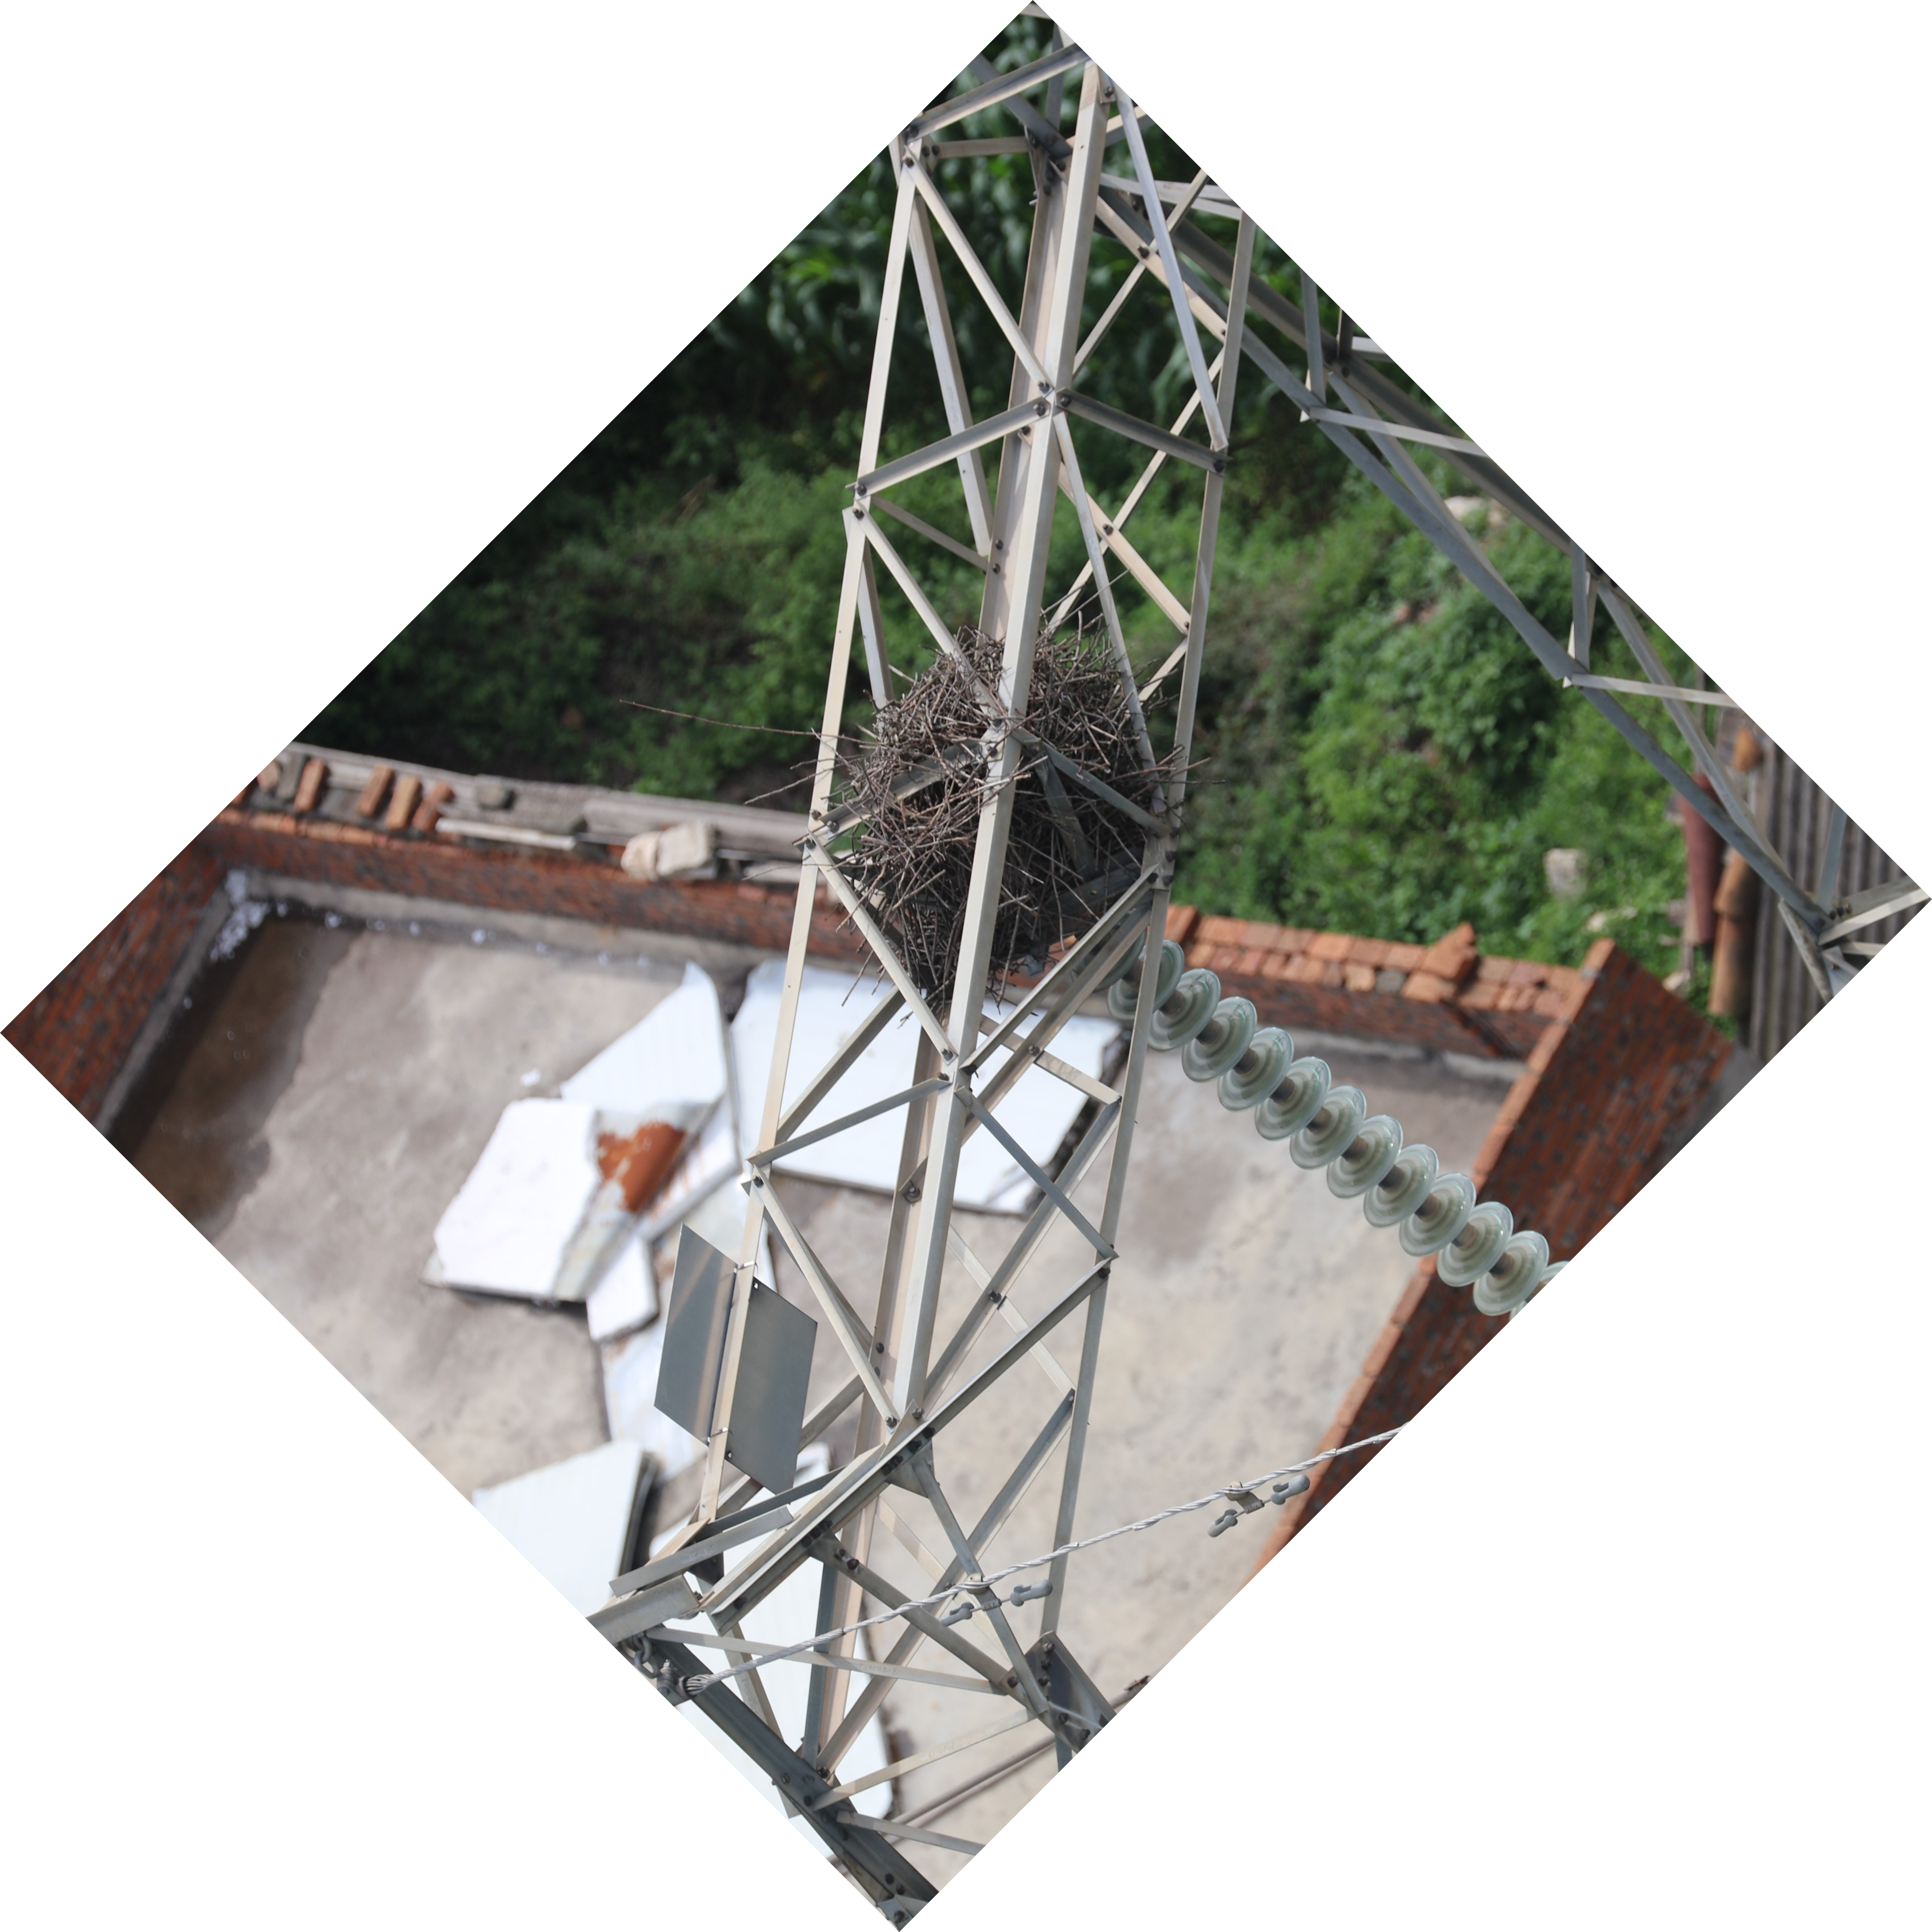niaowo: (794, 621, 1208, 991)
